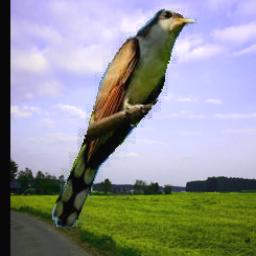Cuckoo: (52, 8, 196, 227)
